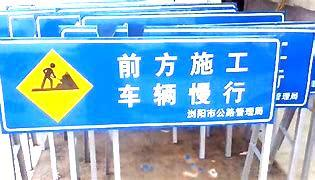sign: (3, 40, 273, 126)
